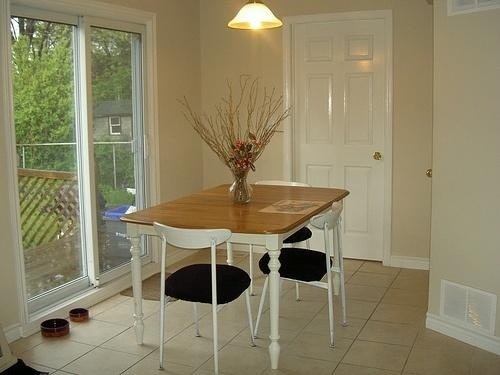chair: (150, 221, 259, 375), (252, 201, 348, 347), (250, 175, 318, 248)
diningtable: (124, 182, 352, 370)
